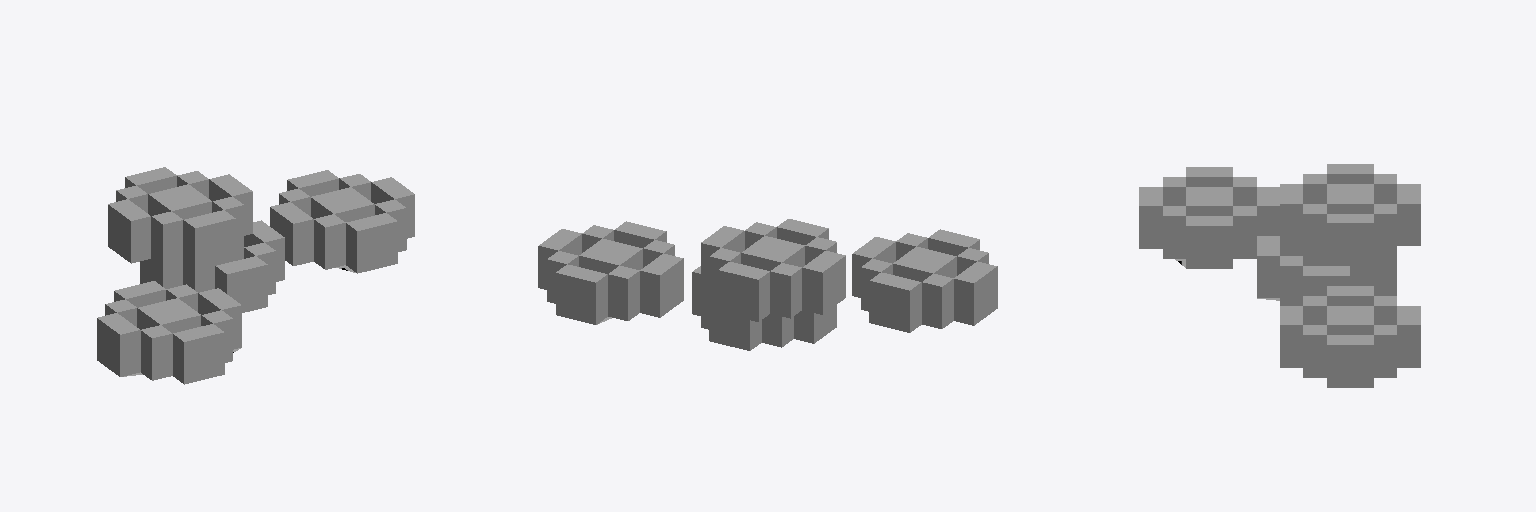
3 views of the same model, side by side, from view 1: azimuth 30°, elevation 25°; view 2: azimuth 150°, elevation 25°; view 3: azimuth 270°, elevation 25° (orthographic).
Visible parts, largest first — view 1: Coins_3_Silver_Coins_3_Silver.001; view 2: Coins_3_Silver_Coins_3_Silver.001; view 3: Coins_3_Silver_Coins_3_Silver.001.
Boxes of the visible parts, x1=… form: Coins_3_Silver_Coins_3_Silver.001: x1=97, y1=167, x2=414, y2=384; Coins_3_Silver_Coins_3_Silver.001: x1=538, y1=219, x2=997, y2=350; Coins_3_Silver_Coins_3_Silver.001: x1=1139, y1=164, x2=1420, y2=387.
Size of the model in its own units: 1.8 by 0.4 by 1.2.
1 materials, 1 textured.